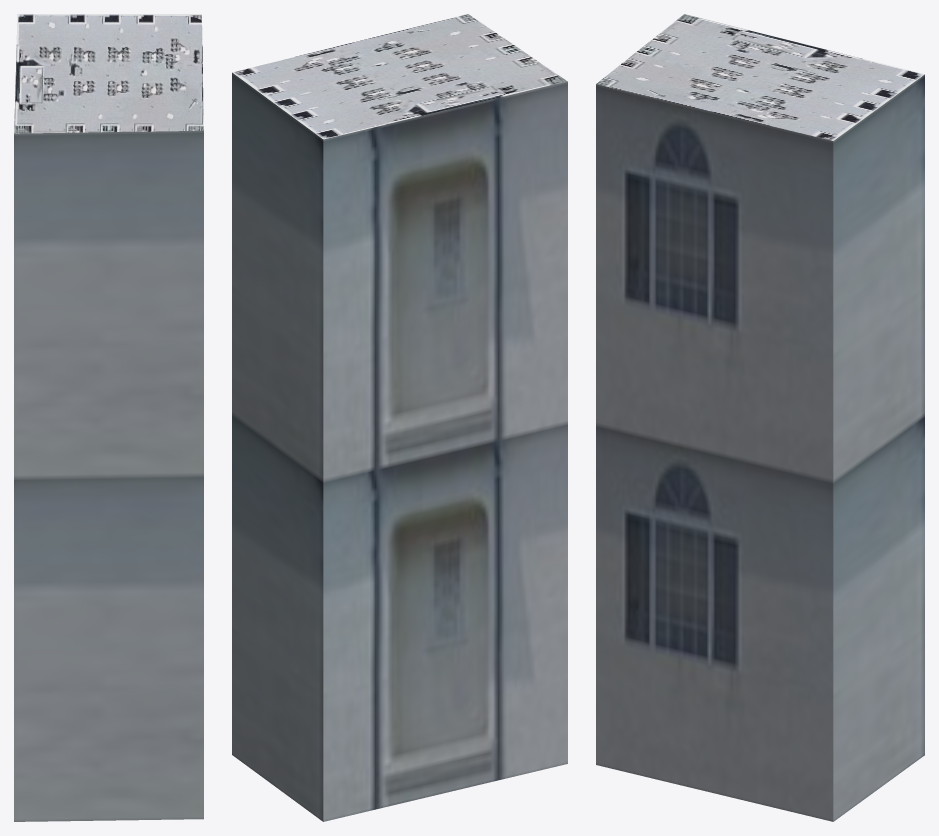
Rendered from ResTex__801.fbx.
3 views of the same model, side by side, from view 1: azimuth 30°, elevation 25°; view 2: azimuth 150°, elevation 25°; view 3: azimuth 270°, elevation 25° (orthographic).
Parts seen in each view (by area): view 1: CityEngineMaterial_17_m, CityEngineMaterial_m; view 2: CityEngineMaterial_17_m, CityEngineMaterial_m; view 3: CityEngineMaterial_17_m, CityEngineMaterial_m.
Boxes of the visible parts, bbox=[...] form: CityEngineMaterial_17_m: bbox=[14, 130, 203, 821]; CityEngineMaterial_m: bbox=[14, 14, 203, 133]; CityEngineMaterial_17_m: bbox=[232, 72, 567, 821]; CityEngineMaterial_m: bbox=[232, 14, 567, 139]; CityEngineMaterial_17_m: bbox=[596, 74, 924, 821]; CityEngineMaterial_m: bbox=[596, 14, 924, 140].
Bounding box in the file's own units: 2.4 × 6 × 2.63.
Materials: 2 (2 with a texture image).
